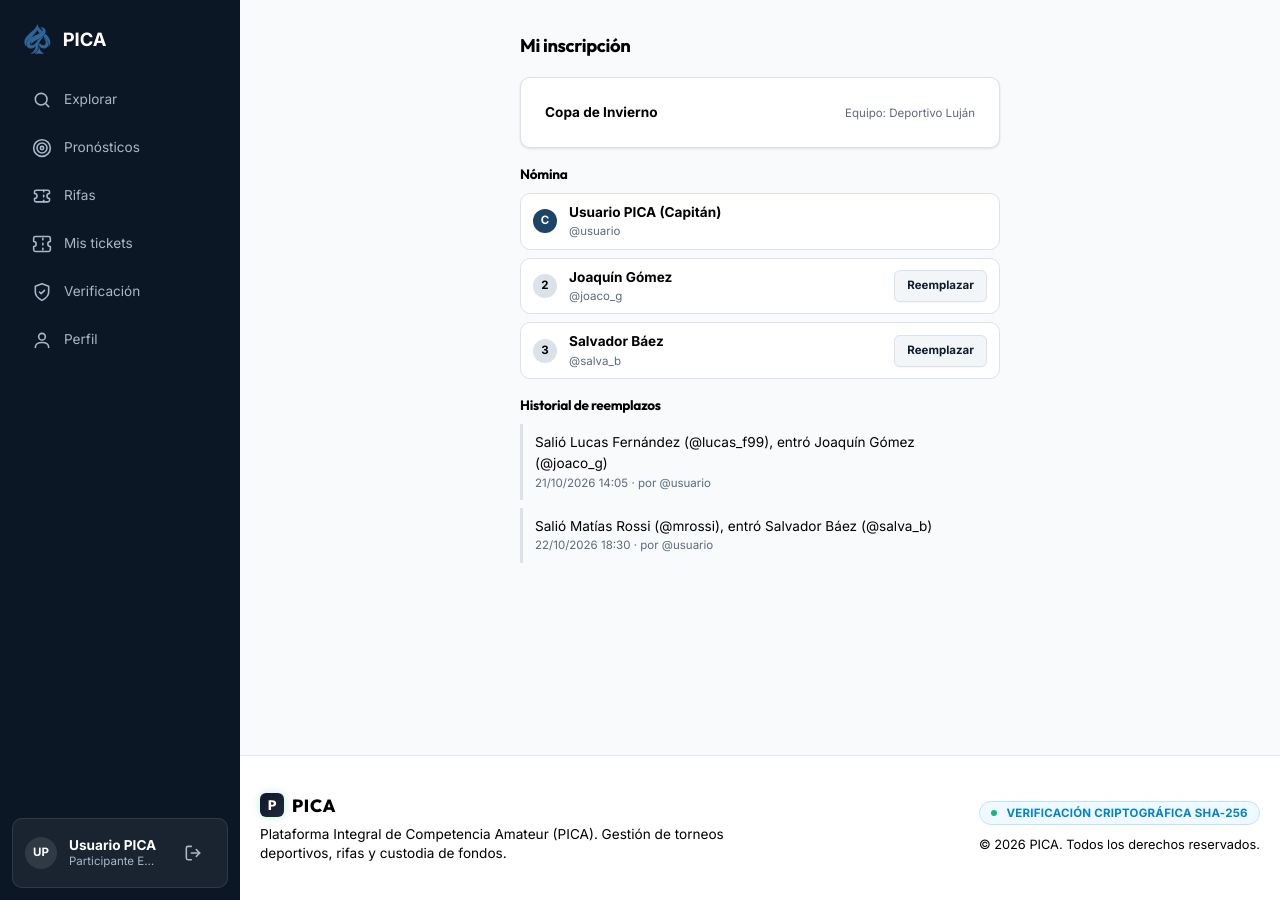
reemplazar un jugador › en la búsqueda, los que ya están en la nómina no se pueden elegir
Click the button with aria-label "Reemplazar a Joaquín Gómez" at (941, 286), box [894,270,987,302]
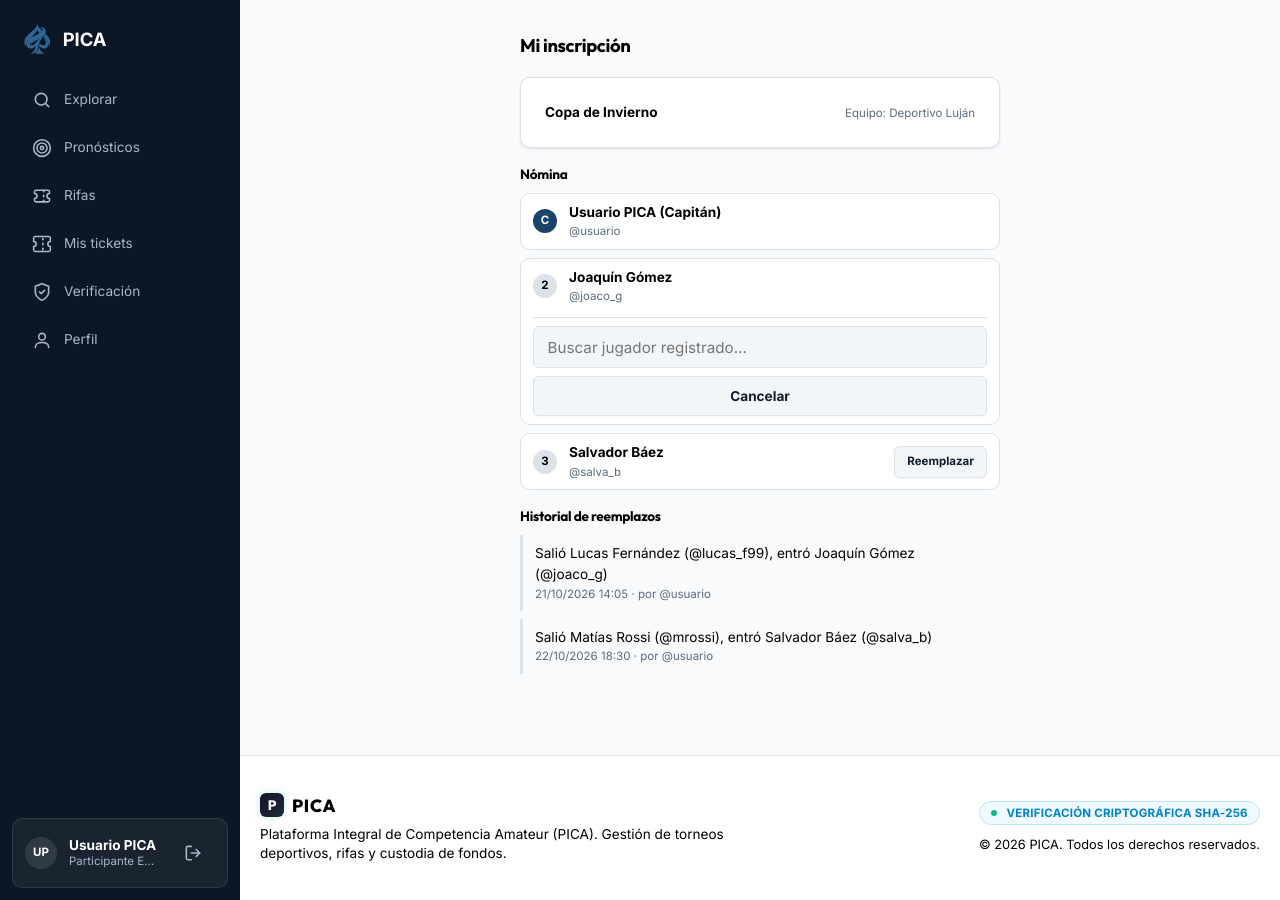
Type "salva" into the search field labelled "Buscar jugador" at (760, 348), box [533,326,987,368]
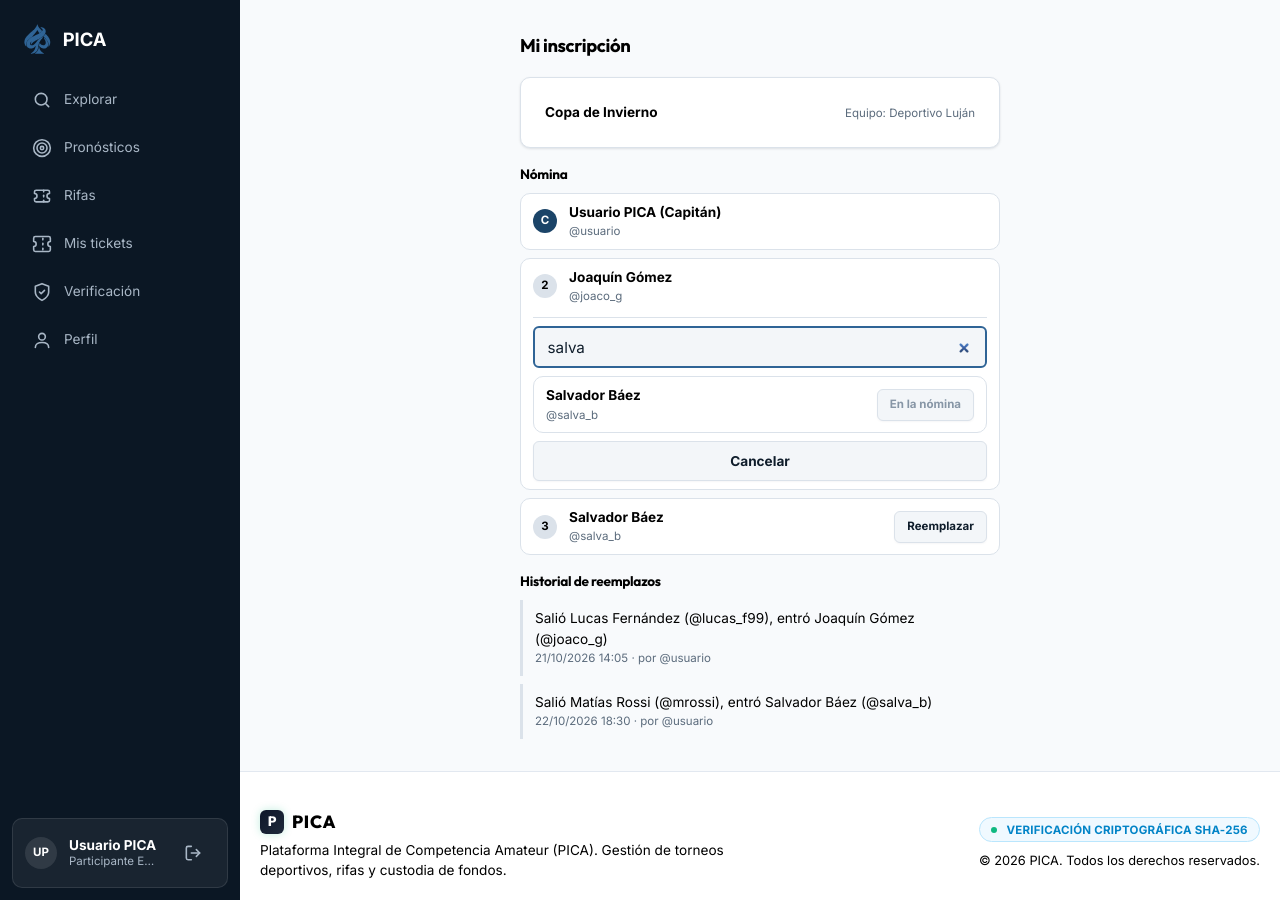
Expected: the button with aria-label "Elegir a Salvador Báez" is disabled, [877,389,974,421]
